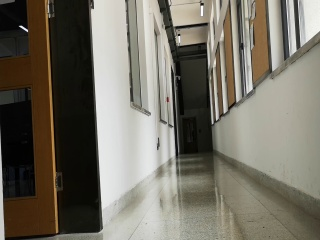room: (2, 2, 109, 237)
